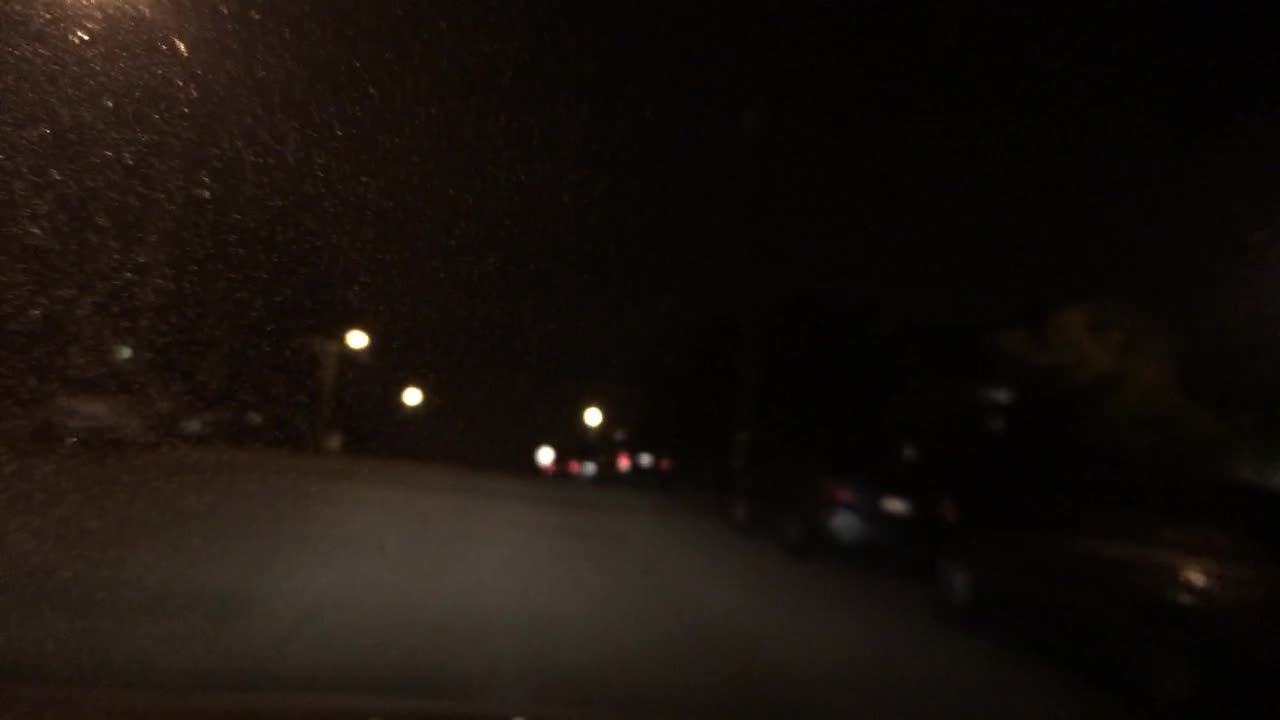car: (923, 426, 1278, 719), (726, 425, 964, 571), (532, 426, 605, 484), (612, 432, 675, 485)
